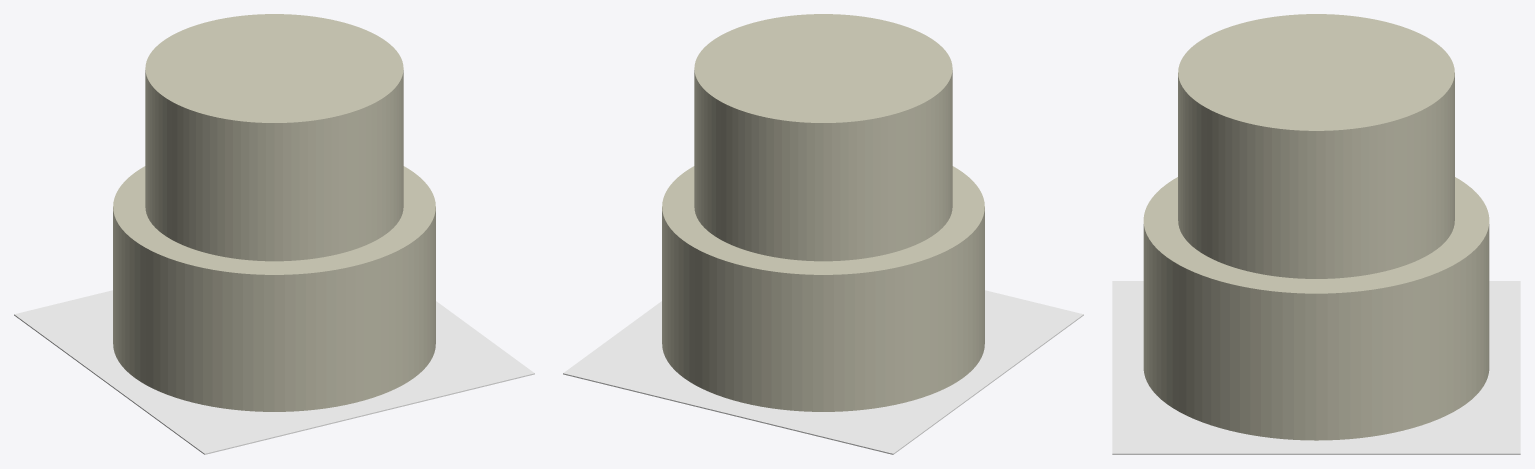
Rendered from cake_tier2_10-8_layers3_v26.glb.
3 views of the same model, side by side, from view 1: azimuth 30°, elevation 25°; view 2: azimuth 150°, elevation 25°; view 3: azimuth 270°, elevation 25° (orthographic). The views are drawn at different scales.
Parts seen in each view (by area): view 1: Tier1, Tier0, Board; view 2: Tier1, Tier0, Board; view 3: Tier1, Tier0, Board.
Part boxes in pixels (left/top/right/bottom): Tier1: left=145, top=14, right=403, bottom=261; Tier0: left=113, top=166, right=435, bottom=411; Board: left=14, top=290, right=534, bottom=454; Tier1: left=694, top=14, right=952, bottom=261; Tier0: left=662, top=166, right=984, bottom=411; Board: left=563, top=290, right=1083, bottom=454; Tier1: left=1178, top=14, right=1454, bottom=278; Tier0: left=1143, top=177, right=1489, bottom=440; Board: left=1112, top=281, right=1520, bottom=454.
Size of the model in its own units: 0.3 by 0.24 by 0.3.
